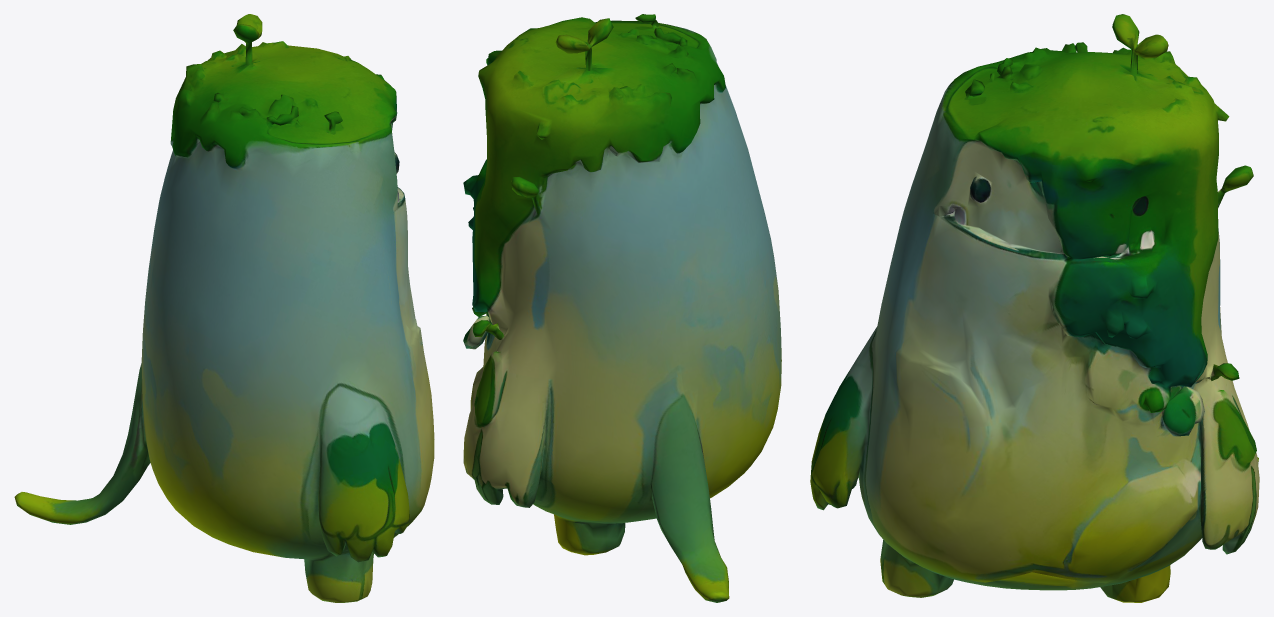
File: tripo_convert_811c0eb8-8dba-49ec-9763-75f50177ac9f.fbx
The picture shows the model from 3 angles, left to right: view 1: azimuth 30°, elevation 25°; view 2: azimuth 150°, elevation 25°; view 3: azimuth 270°, elevation 25°; orthographic projection. The views are drawn at different scales.
Parts seen in each view (by area): view 1: tripo_node_811c0eb8; view 2: tripo_node_811c0eb8; view 3: tripo_node_811c0eb8.
Part boxes in pixels (bbox=[...]): tripo_node_811c0eb8: bbox=[14, 14, 434, 602]; tripo_node_811c0eb8: bbox=[463, 14, 781, 602]; tripo_node_811c0eb8: bbox=[810, 14, 1259, 602].
Bounding box in the file's own units: 62.67 × 100 × 71.49.
1 material, 1 textured.
